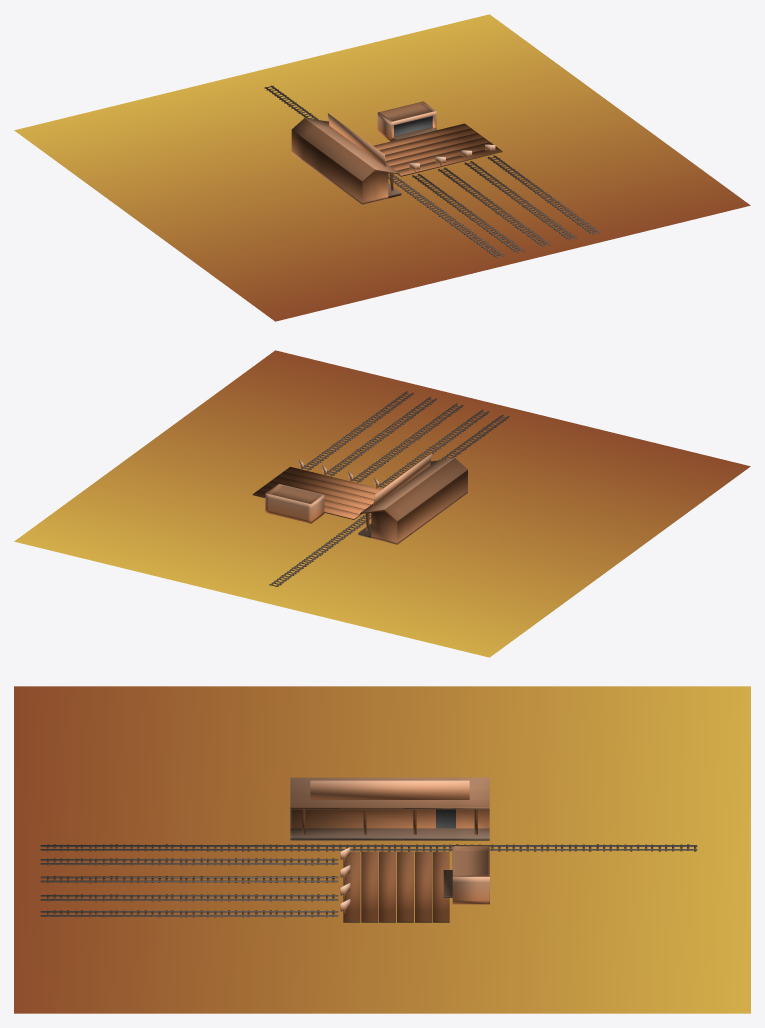
Rendered from Store_Intento CON Smooth (3).fbx.
3 renders of one model, top to bottom at view 1: azimuth 30°, elevation 25°; view 2: azimuth 150°, elevation 25°; view 3: azimuth 270°, elevation 25°, orthographic. The views are drawn at different scales.
Parts seen in each view (by area): view 1: Plane.001, Cube.003, Plane.010, Cube.005, Cube, Cube.004; view 2: Plane.001, Cube.003, Plane.010, Cube.005, Cube, Cube.004; view 3: Plane.001, Plane.010, Cube.003, Cube.005, Cube.004, Cube.
Boxes of the visible parts, x1,y1,x2,y2 form: Plane.001: (14, 14, 750, 321); Cube.003: (291, 118, 401, 204); Plane.010: (264, 85, 600, 257); Cube.005: (373, 123, 502, 176); Cube: (377, 101, 436, 141); Cube.004: (327, 113, 386, 166); Plane.001: (14, 350, 750, 657); Cube.003: (358, 458, 467, 544); Plane.010: (269, 391, 509, 586); Cube.005: (252, 467, 381, 519); Cube: (265, 483, 324, 523); Cube.004: (373, 453, 431, 506); Plane.001: (14, 686, 750, 1013); Plane.010: (40, 844, 697, 917); Cube.003: (290, 777, 489, 840); Cube.005: (343, 851, 449, 922); Cube.004: (310, 780, 469, 799); Cube: (443, 845, 489, 904).
Bounding box in the file's own units: 15297 × 1174 × 14560.
